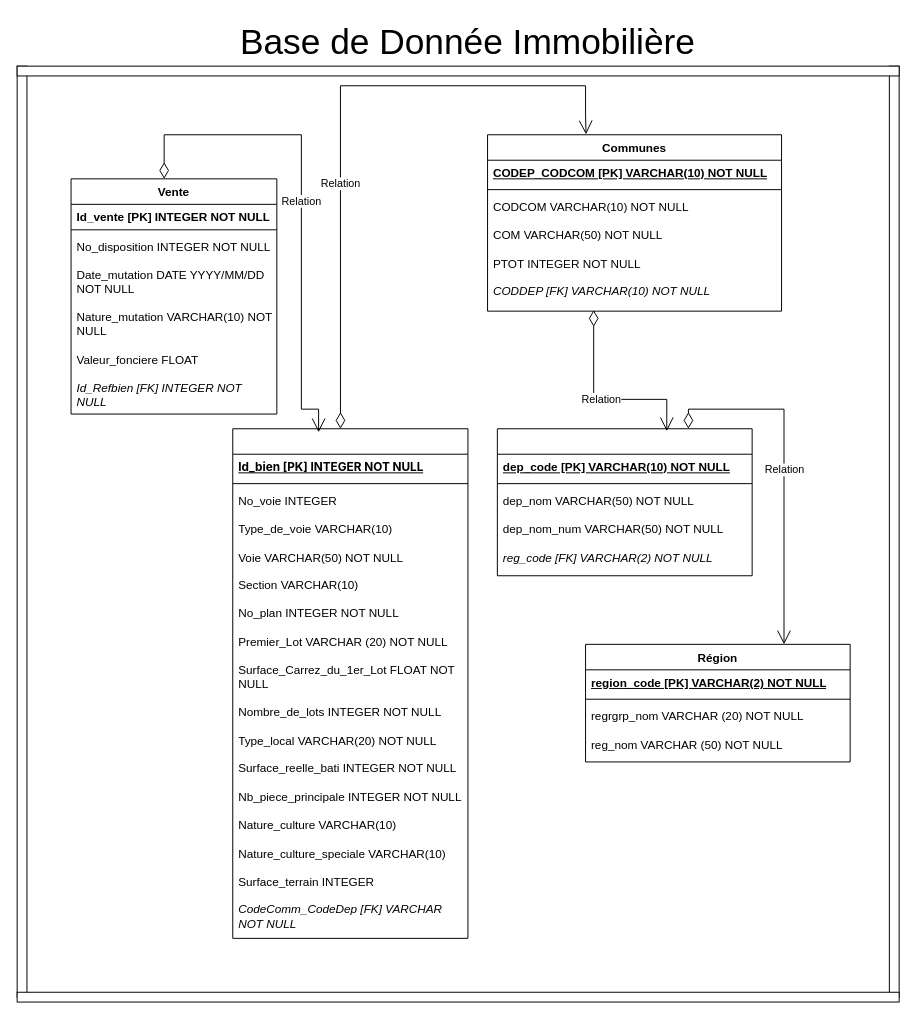
Image size: 916x1019. Some labels were removed from this diagram. Each missing label, with the box of its shape:
Biens: (232, 428, 468, 938)
Département: (496, 428, 752, 576)
